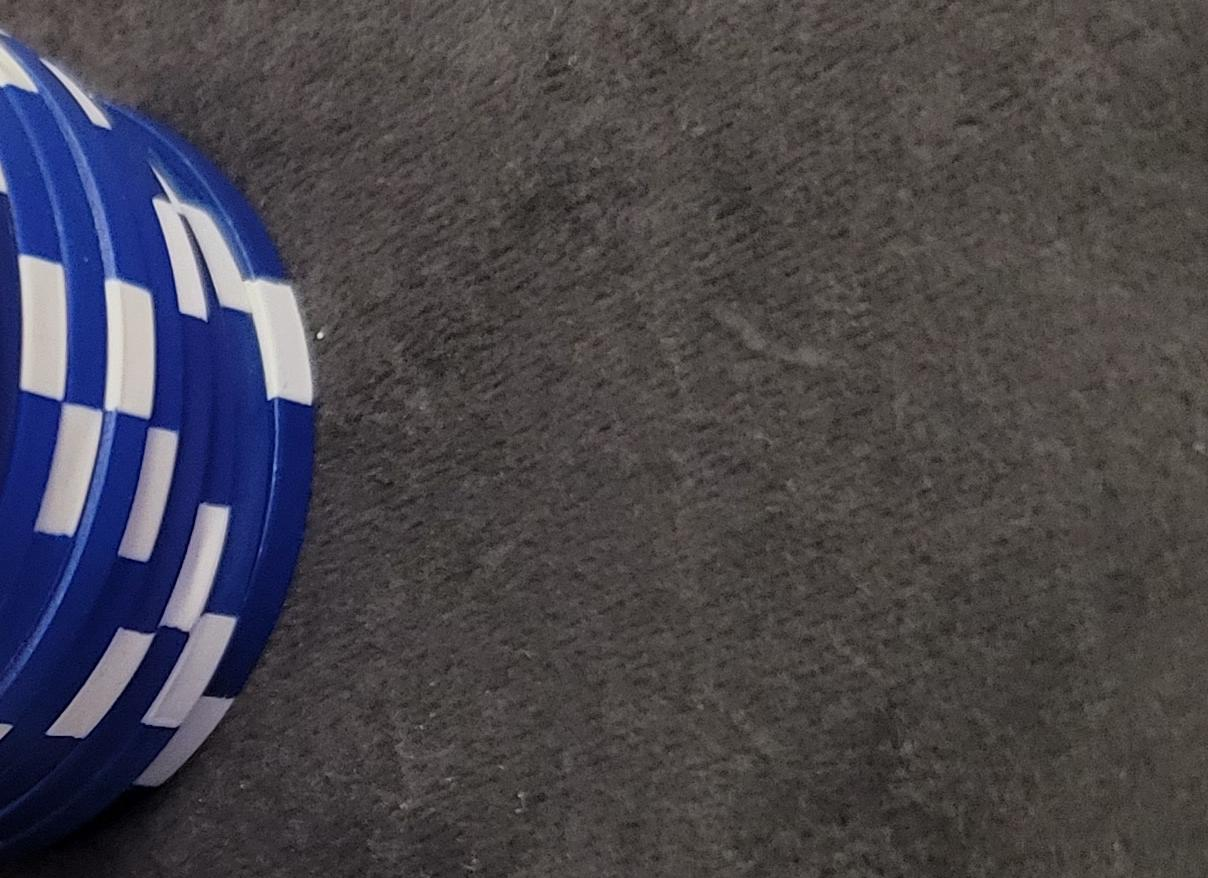Chip: (1, 180, 309, 878)
